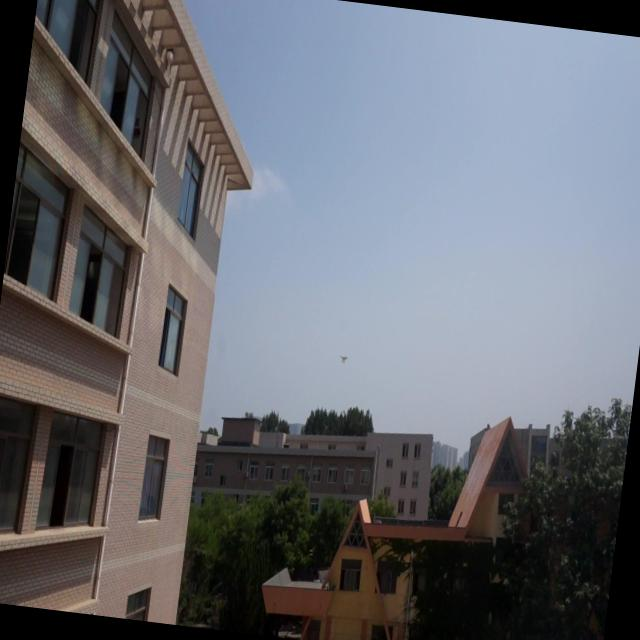drone: (336, 350, 351, 366)
